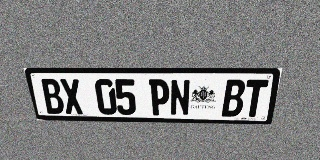0: (94, 79, 117, 115)
5: (114, 79, 137, 115)
B: (39, 79, 66, 114), (221, 80, 246, 117)
N: (170, 79, 191, 116)
P: (149, 79, 169, 116)
T: (242, 80, 269, 117)
X: (59, 79, 84, 114)
